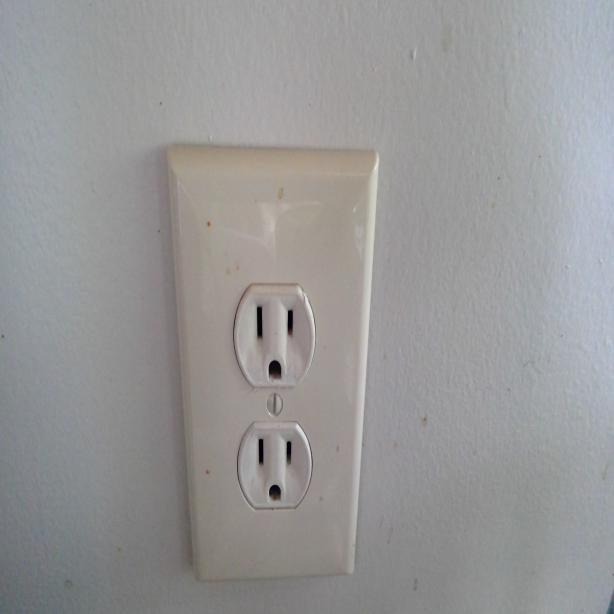typeb: (235, 282, 313, 389), (240, 423, 308, 512)
